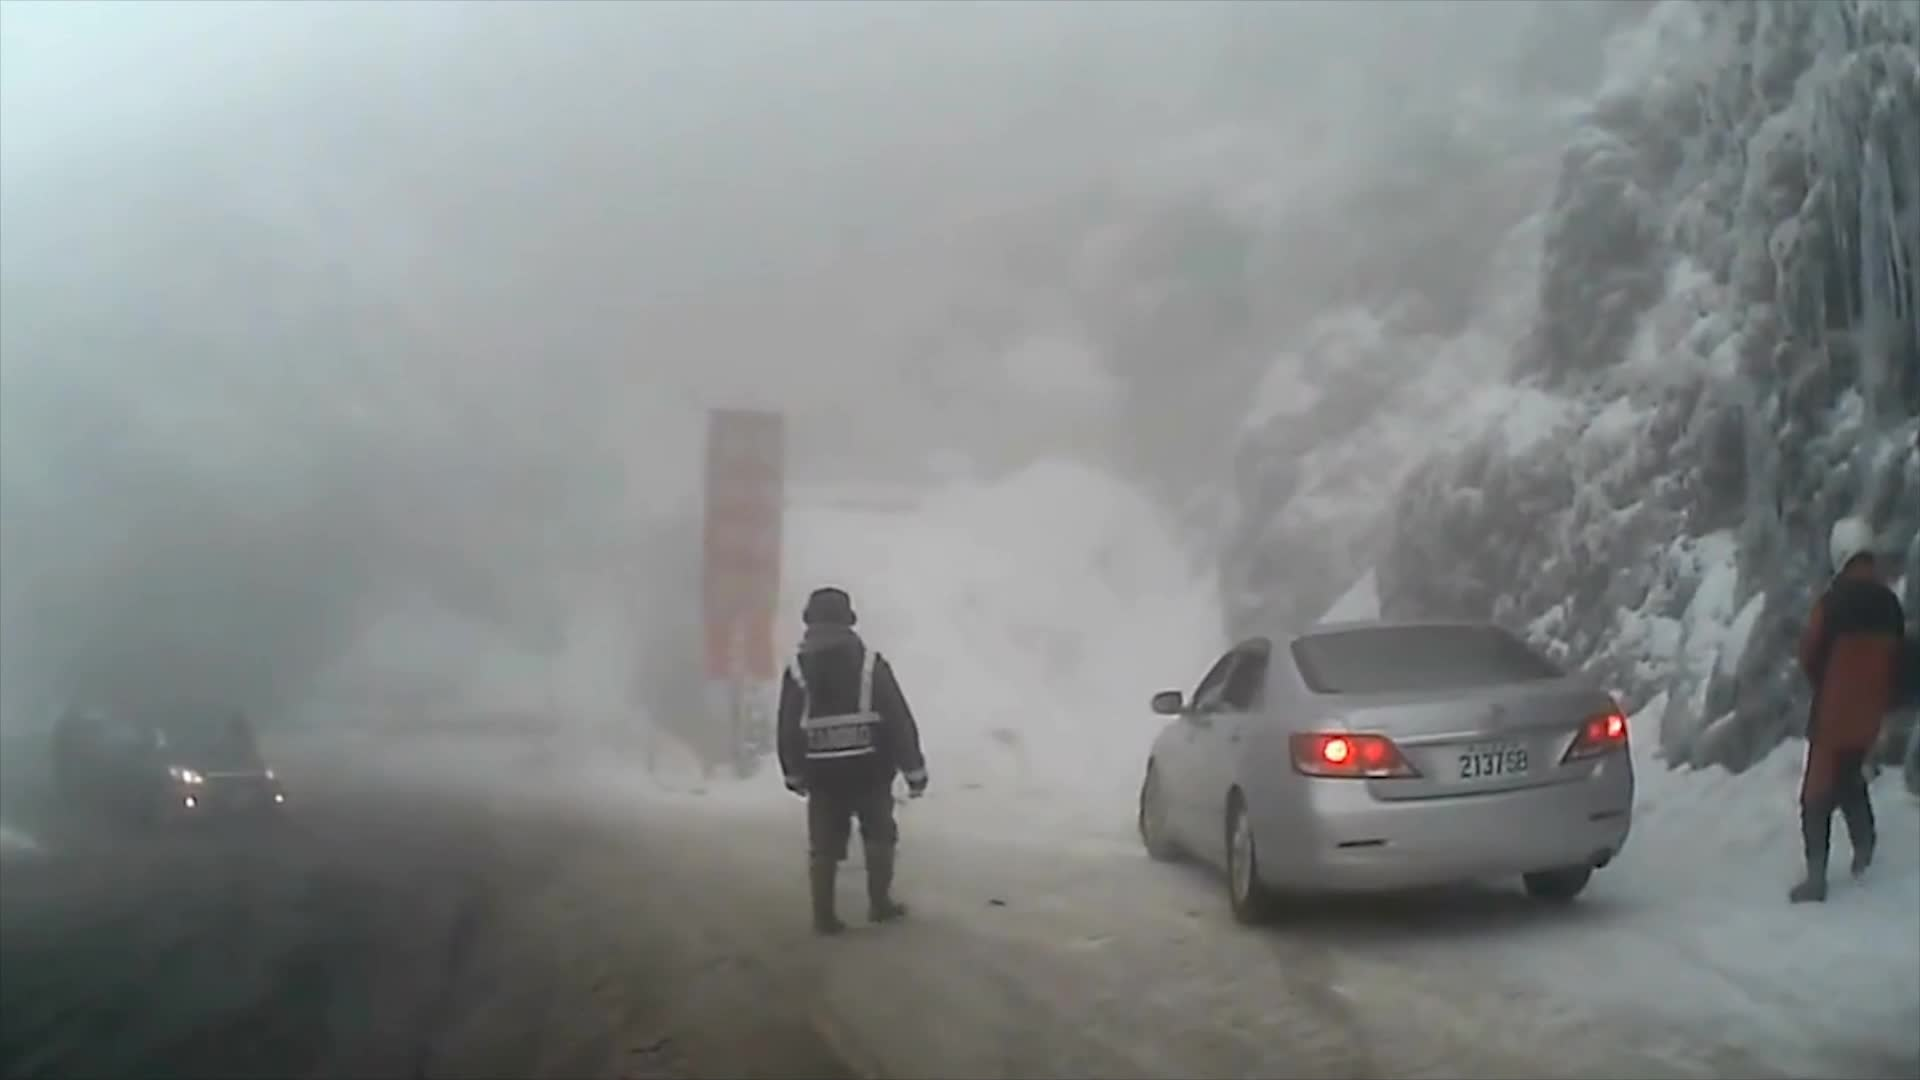pedestrian: (775, 587, 932, 937), (1790, 515, 1911, 905)
vehicle: (1134, 623, 1633, 930), (68, 700, 281, 833)
